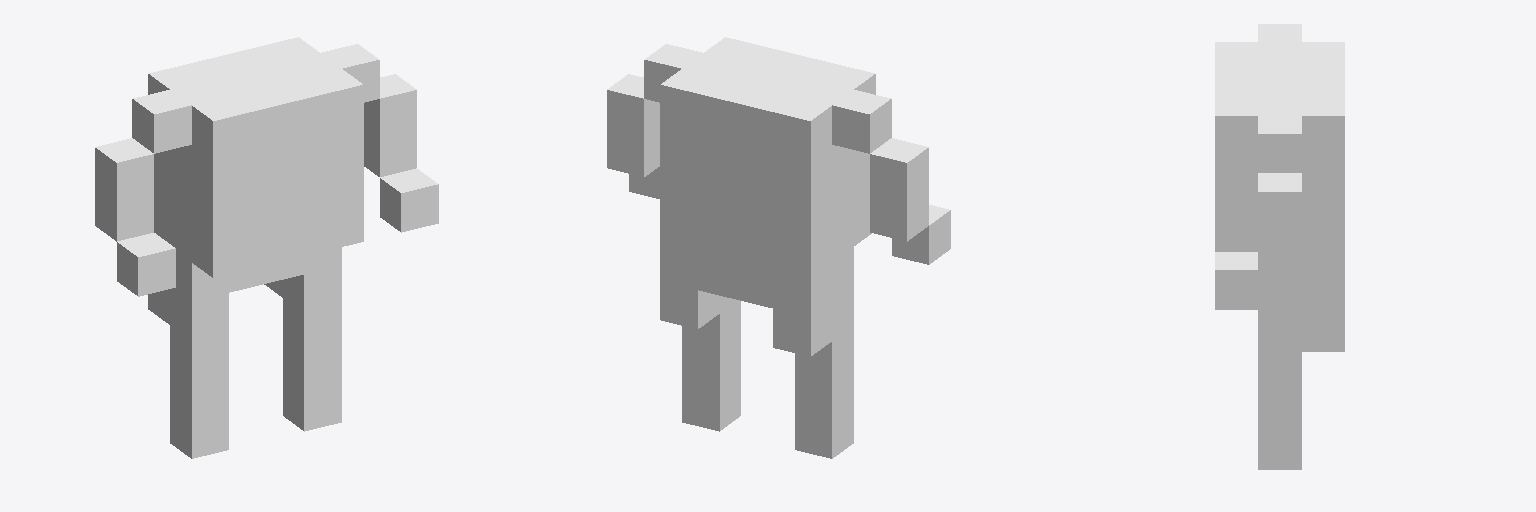
The model's file is scummBarPirate08_body.obj.
3 renders of one model, left to right at view 1: azimuth 30°, elevation 25°; view 2: azimuth 150°, elevation 25°; view 3: azimuth 270°, elevation 25°, orthographic.
Bounding box in the file's own units: 8 × 9 × 3.